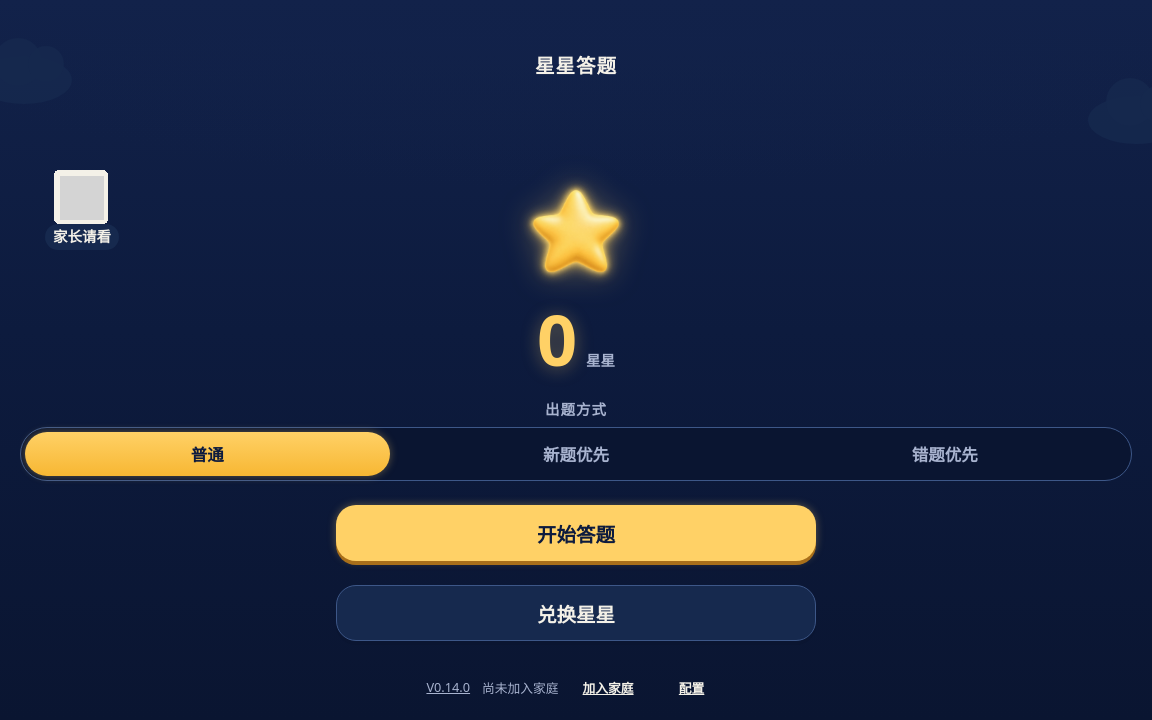
it: 检查更新（版本号可点击） › 云端 build 与本机构建身份一致 → 「已是最新」+「重新加载」按钮
What coordinates should you click on to do the following:
click the button "V0.14.0"
I would click on:
 (448, 687)
Its box is [426,678,470,696].
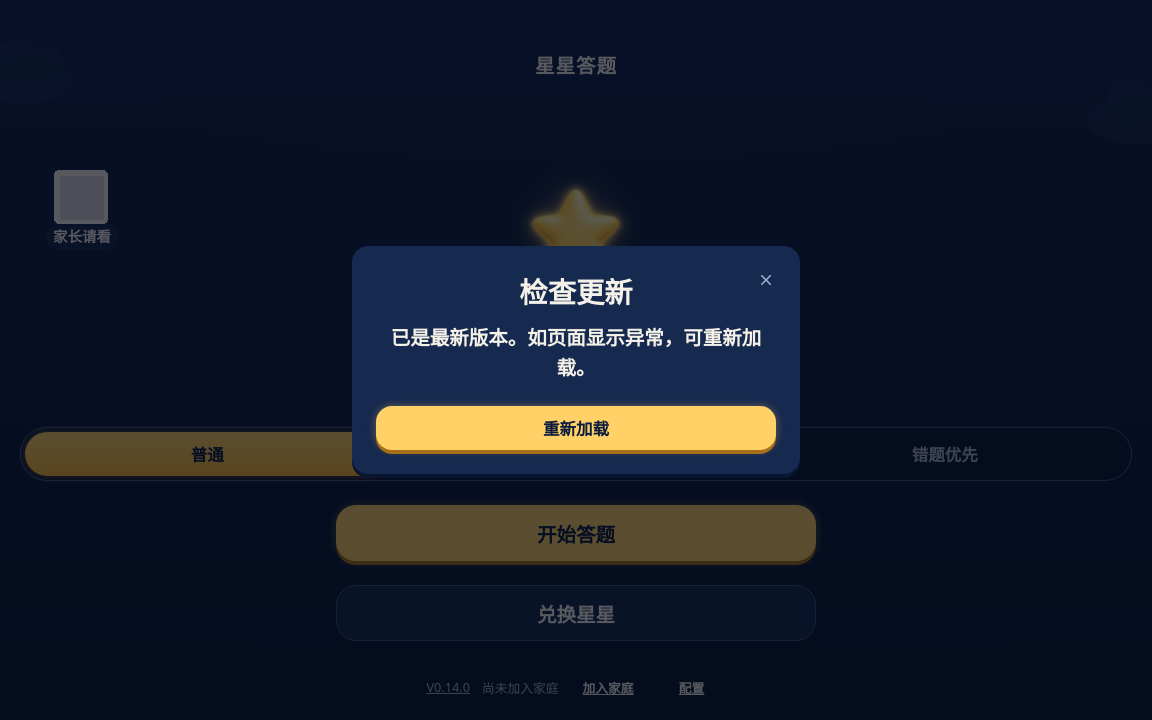
Result: the heading with class "star-modal__title" reads "检查更新" at [519,273,633,311]
Result: the text with class "star-modal__text" reads "已是最新版本。如页面显示异常，可重新加载。" at [391,324,761,381]
Result: the text "重新加载" is shown at [391,324,761,381]
